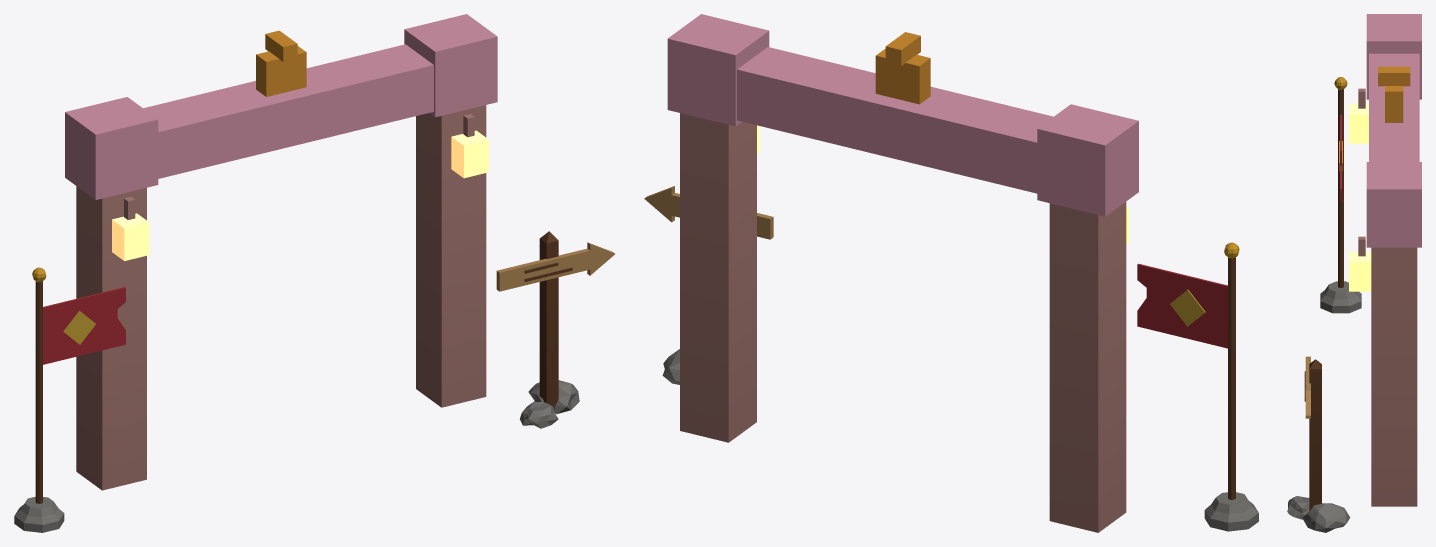
The model's file is trailhead-arch.glb.
3 renders of one model, left to right at view 1: azimuth 30°, elevation 25°; view 2: azimuth 150°, elevation 25°; view 3: azimuth 270°, elevation 25°, orthographic. The views are drawn at different scales.
Visible parts, largest first — view 1: trailhead-arch_body, trailhead-arch_glow; view 2: trailhead-arch_body; view 3: trailhead-arch_body, trailhead-arch_glow.
Part boxes in pixels (x1,y1,x2,y2): trailhead-arch_body: (14, 14, 614, 532); trailhead-arch_glow: (112, 130, 488, 260); trailhead-arch_body: (644, 14, 1258, 532); trailhead-arch_body: (1287, 14, 1421, 532); trailhead-arch_glow: (1349, 103, 1371, 291).
Bounding box in the file's own units: 10.68 × 7 × 2.42.
